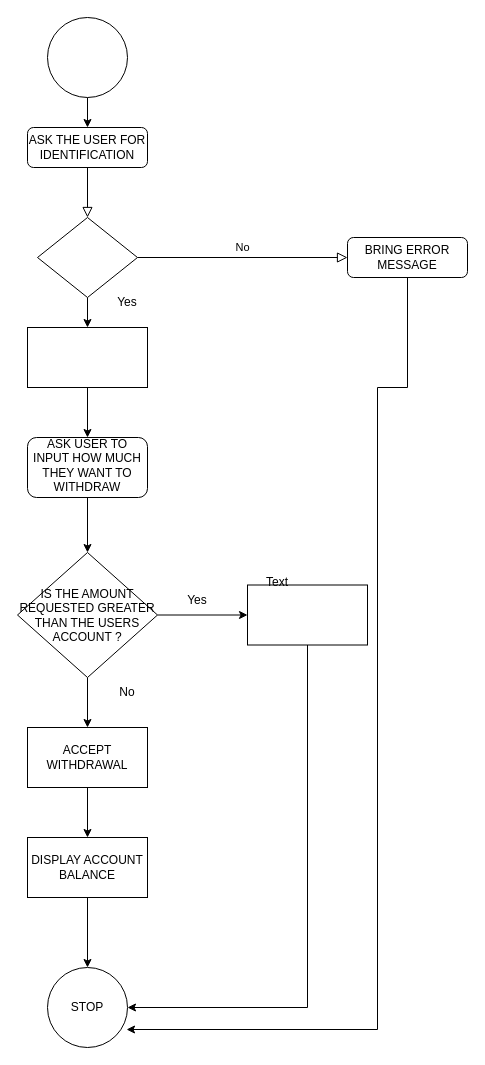
This 485x1065 diagram has some shape labels left out. Each missing label, with the box of its shape:
DISPLAY AMOUNT IN USERS ACCOUNT: (26, 326, 148, 388)
DISPLAY ERROR MESSAGE: (246, 584, 368, 645)
IS THE IDENTIFICATION CORRECT ?: (36, 216, 138, 298)
START: (46, 16, 128, 98)
